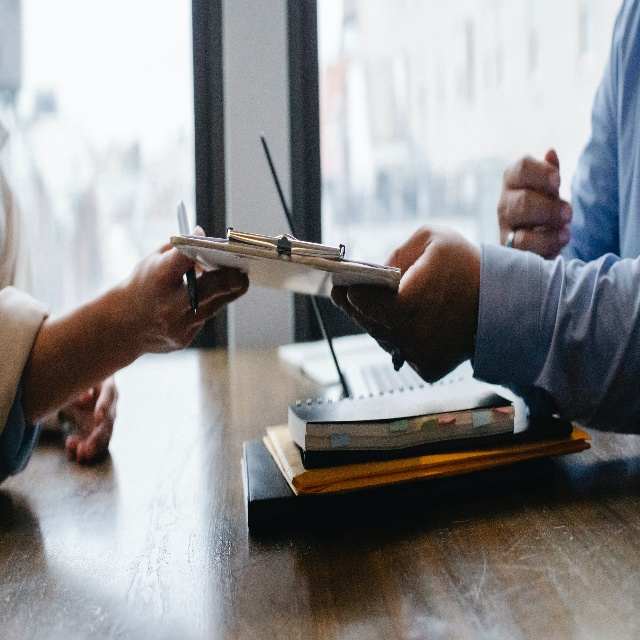Sin_guantes: (328, 218, 484, 386), (128, 222, 249, 355), (498, 148, 574, 263), (63, 372, 121, 465)
